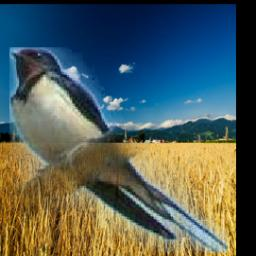Swallow: (9, 47, 227, 253)
